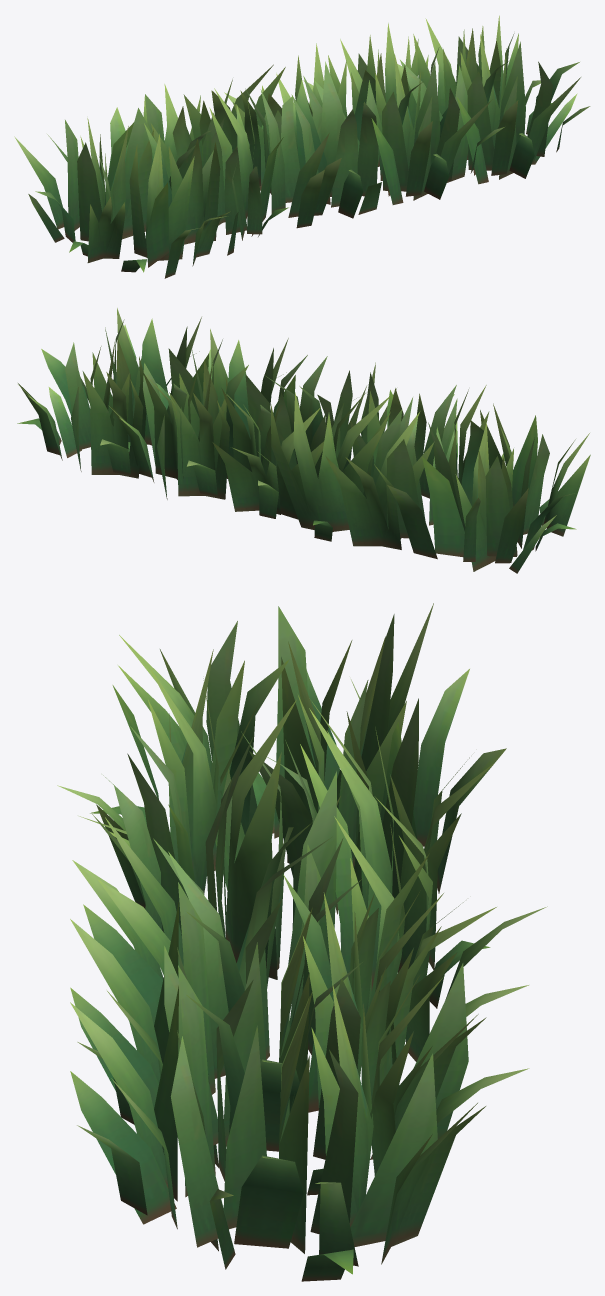
Rendered from pref_sm_beach_techgrass_alpha_yellow01_lv1.fbx.
The picture shows the model from 3 angles, top to bottom: view 1: azimuth 30°, elevation 25°; view 2: azimuth 150°, elevation 25°; view 3: azimuth 270°, elevation 25°; orthographic projection. The views are drawn at different scales.
Visible parts, largest first — view 1: pref_sm_beach_techgrass_alpha_yellow01_lv1; view 2: pref_sm_beach_techgrass_alpha_yellow01_lv1; view 3: pref_sm_beach_techgrass_alpha_yellow01_lv1.
Part boxes in pixels (x1,y1,x2,y2): pref_sm_beach_techgrass_alpha_yellow01_lv1: (14,15,590,278); pref_sm_beach_techgrass_alpha_yellow01_lv1: (17,308,590,573); pref_sm_beach_techgrass_alpha_yellow01_lv1: (57,603,547,1281).
Size of the model in its own units: 7.91 by 2.03 by 3.13.
